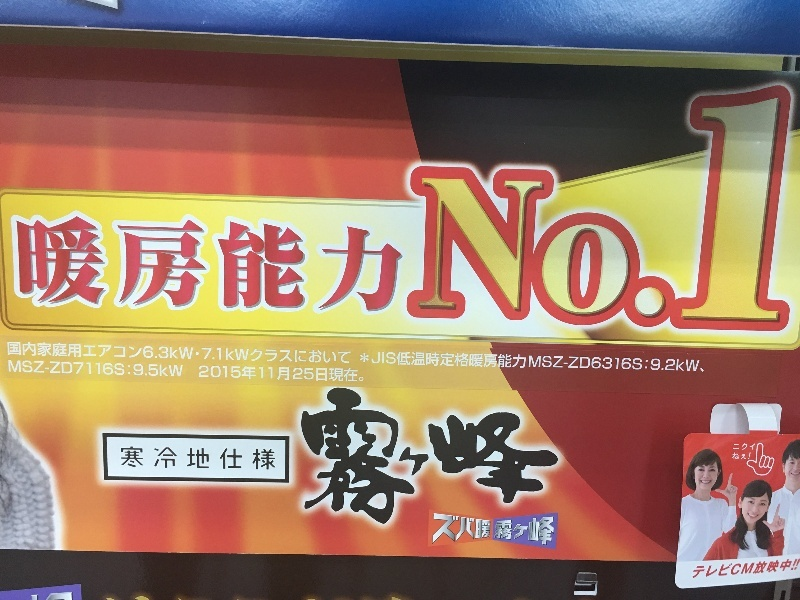text: (705, 92, 720, 324), (721, 92, 736, 324), (737, 92, 752, 324), (753, 92, 768, 324), (769, 92, 783, 324), (433, 171, 448, 320), (449, 171, 464, 320), (465, 171, 480, 320), (481, 171, 496, 320), (497, 171, 512, 320), (513, 171, 528, 320), (529, 171, 544, 320), (545, 171, 560, 320), (561, 171, 576, 320), (577, 171, 592, 320), (593, 171, 608, 320), (609, 171, 624, 320), (625, 171, 640, 320), (641, 171, 656, 320), (657, 171, 672, 320), (305, 386, 320, 526), (321, 386, 336, 526), (337, 386, 352, 526), (353, 386, 368, 526), (369, 386, 384, 526), (385, 386, 400, 526), (401, 386, 416, 526), (417, 386, 432, 526), (433, 386, 448, 526), (449, 386, 464, 526), (465, 386, 480, 526), (481, 386, 496, 526), (497, 386, 512, 526), (513, 386, 528, 526), (529, 386, 544, 526), (418, 171, 432, 320), (545, 386, 559, 526), (17, 212, 32, 318), (33, 212, 48, 318), (49, 212, 64, 318), (65, 212, 80, 318), (81, 212, 96, 318), (97, 212, 112, 318), (113, 212, 128, 318), (129, 212, 144, 318), (145, 212, 160, 318), (161, 212, 176, 318), (177, 212, 192, 318), (193, 212, 208, 318), (209, 212, 224, 318), (225, 212, 240, 318), (241, 212, 256, 318), (257, 212, 272, 318), (273, 212, 288, 318), (289, 212, 304, 318), (305, 212, 320, 318), (321, 212, 336, 318), (337, 212, 352, 318), (353, 212, 368, 318), (369, 212, 384, 318), (385, 212, 400, 318), (700, 92, 704, 324), (401, 212, 407, 318), (300, 386, 304, 526), (433, 513, 448, 548), (449, 513, 464, 548), (465, 513, 480, 548), (481, 513, 496, 548), (497, 513, 512, 548), (513, 513, 528, 548), (529, 513, 544, 548), (129, 445, 144, 472), (145, 445, 160, 472), (161, 445, 176, 472), (177, 445, 192, 472), (193, 445, 208, 472), (209, 445, 224, 472), (225, 445, 240, 472), (241, 445, 256, 472), (257, 445, 272, 472), (545, 513, 556, 548), (17, 342, 32, 365), (33, 342, 48, 365), (49, 342, 64, 365), (65, 342, 80, 365), (81, 342, 96, 365), (97, 342, 112, 365), (113, 342, 128, 365), (129, 342, 144, 365), (145, 342, 160, 365), (161, 342, 176, 365), (177, 342, 192, 365), (193, 342, 208, 365), (209, 342, 224, 365), (225, 342, 240, 365), (241, 342, 256, 365), (257, 342, 272, 365), (273, 342, 288, 365), (289, 342, 304, 365), (305, 342, 320, 365), (321, 342, 336, 365), (337, 342, 352, 365), (385, 351, 400, 374), (401, 351, 416, 374), (417, 351, 432, 374), (433, 351, 448, 374), (449, 351, 464, 374), (465, 351, 480, 374), (481, 351, 496, 374), (497, 351, 512, 374), (513, 351, 528, 374), (529, 351, 544, 374), (545, 351, 560, 374), (561, 351, 576, 374), (577, 351, 592, 374), (593, 351, 608, 374), (609, 351, 624, 374), (625, 351, 640, 374), (641, 351, 656, 374), (657, 351, 672, 374), (673, 351, 688, 374), (689, 351, 704, 374), (705, 558, 720, 580), (721, 558, 736, 580), (737, 558, 752, 580), (753, 558, 768, 580), (769, 558, 784, 580), (785, 558, 800, 580), (17, 359, 32, 380), (33, 359, 48, 380), (49, 359, 64, 380), (65, 359, 80, 380), (81, 359, 96, 380), (97, 359, 112, 380), (113, 359, 128, 380), (129, 359, 144, 380), (145, 359, 160, 380), (161, 359, 176, 380), (209, 364, 224, 384), (225, 364, 240, 384), (241, 364, 256, 384), (257, 364, 272, 384), (273, 364, 288, 384), (289, 364, 304, 384), (305, 364, 320, 384), (321, 364, 336, 384), (337, 364, 352, 384), (371, 351, 384, 374), (673, 171, 675, 320), (353, 364, 365, 384), (694, 558, 704, 580), (7, 342, 16, 365), (7, 359, 16, 380), (121, 445, 128, 472), (199, 364, 208, 384), (177, 359, 185, 380), (273, 445, 277, 472), (15, 212, 16, 318), (737, 444, 752, 451), (737, 453, 751, 460), (705, 351, 706, 374), (733, 444, 736, 451), (753, 444, 756, 451), (733, 453, 736, 460)
